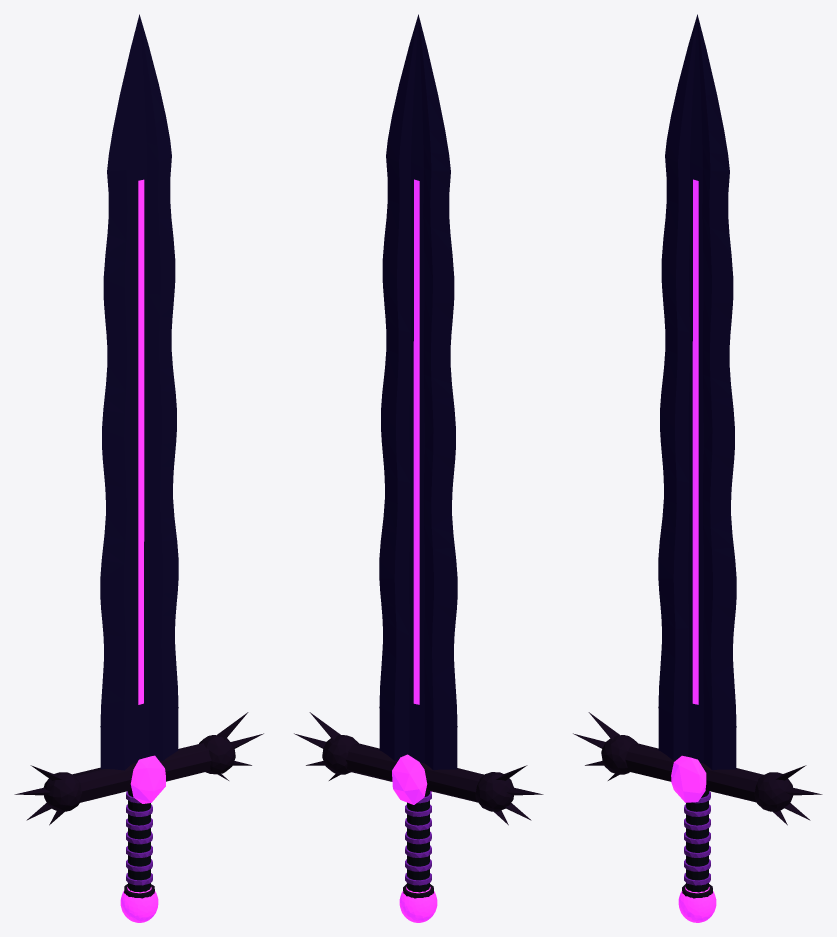
Rendered from sword_6.glb.
3 views of the same model, side by side, from view 1: azimuth 30°, elevation 25°; view 2: azimuth 150°, elevation 25°; view 3: azimuth 330°, elevation 25° (orthographic).
Parts seen in each view (by area): view 1: part_01, part_03, part_04, part_17, part_15, part_05, part_06, part_25; view 2: part_01, part_02, part_04, part_17, part_16, part_05, part_06, part_25; view 3: part_01, part_03, part_04, part_17, part_15, part_06, part_05, part_25.
Boxes of the visible parts, left/top/right/bottom form: part_01: left=100, top=14, right=178, bottom=770; part_03: left=138, top=179, right=144, bottom=704; part_04: left=73, top=743, right=211, bottom=802; part_17: left=128, top=790, right=150, bottom=892; part_15: left=130, top=755, right=165, bottom=803; part_05: left=43, top=772, right=82, bottom=811; part_06: left=199, top=735, right=235, bottom=774; part_25: left=120, top=887, right=158, bottom=922; part_01: left=379, top=14, right=457, bottom=770; part_02: left=413, top=179, right=419, bottom=704; part_04: left=345, top=743, right=483, bottom=802; part_17: left=407, top=790, right=429, bottom=892; part_16: left=392, top=754, right=427, bottom=804; part_05: left=475, top=772, right=513, bottom=811; part_06: left=322, top=735, right=358, bottom=774; part_25: left=399, top=887, right=437, bottom=922; part_01: left=658, top=14, right=736, bottom=770; part_03: left=692, top=179, right=698, bottom=704; part_04: left=625, top=743, right=763, bottom=802; part_17: left=686, top=790, right=708, bottom=892; part_15: left=671, top=755, right=706, bottom=802; part_06: left=754, top=772, right=793, bottom=811; part_05: left=601, top=735, right=637, bottom=774; part_25: left=678, top=887, right=716, bottom=922.
Size of the model in its own units: 0.4279 by 1.48 by 0.0848.
